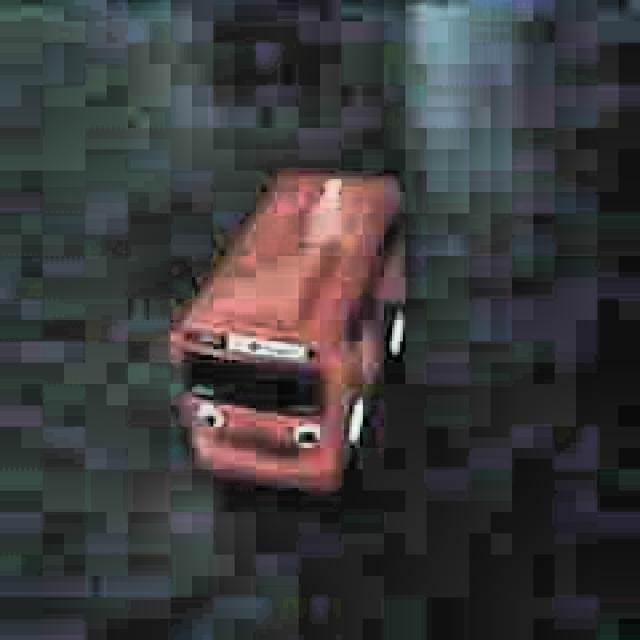bus: (169, 163, 411, 499)
